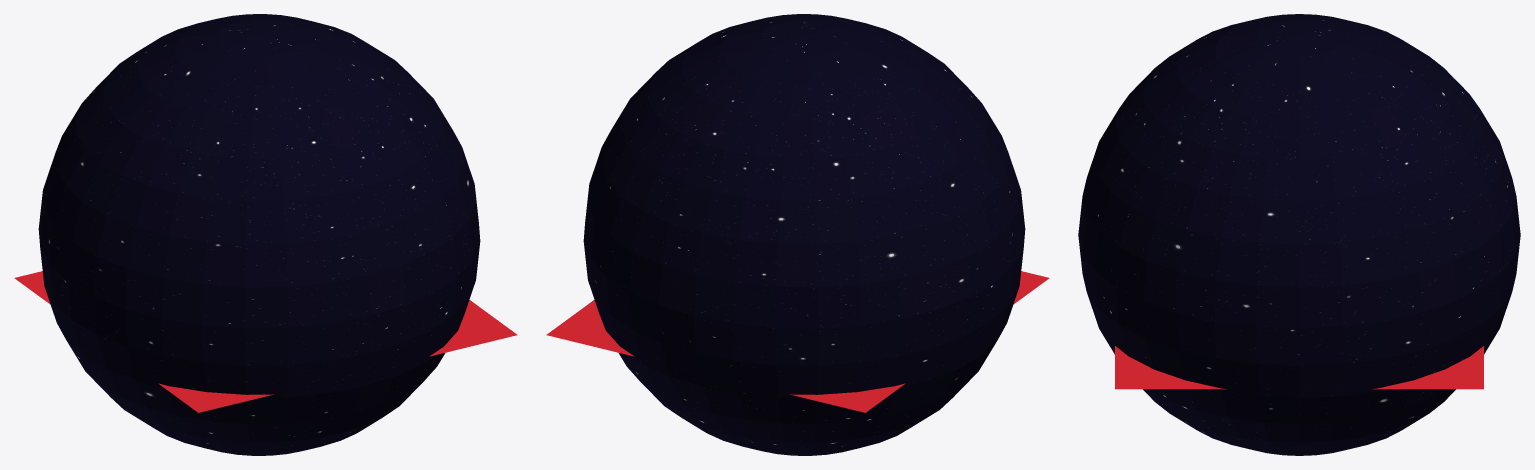
The model's file is test-zone2.glb.
The picture shows the model from 3 angles, left to right: view 1: azimuth 30°, elevation 25°; view 2: azimuth 150°, elevation 25°; view 3: azimuth 270°, elevation 25°; orthographic projection.
Visible parts, largest first — view 1: SkyBox, DeathPlane; view 2: SkyBox, DeathPlane; view 3: SkyBox, DeathPlane.
Part boxes in pixels (x1,y1,x2,y2): SkyBox: (38, 14, 480, 455); DeathPlane: (14, 271, 517, 412); SkyBox: (583, 14, 1025, 455); DeathPlane: (546, 271, 1049, 412); SkyBox: (1078, 14, 1520, 455); DeathPlane: (1115, 346, 1483, 389).
Size of the model in its own units: 600 by 600 by 600.
14 materials, 13 textured.
